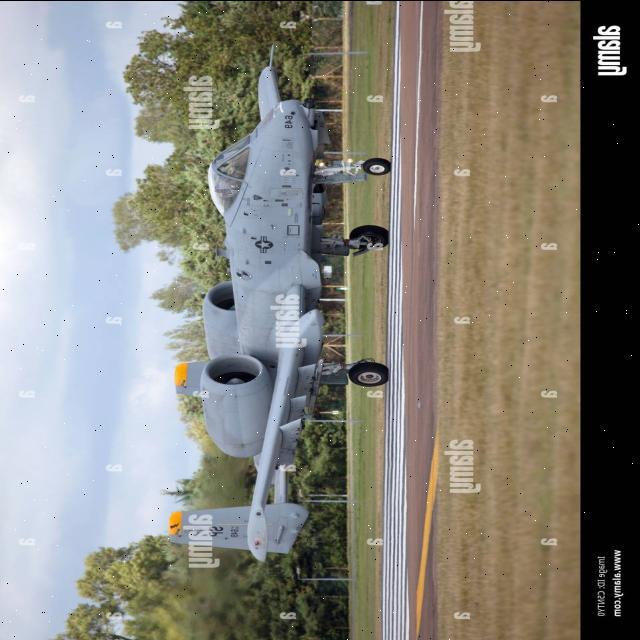A10: (146, 53, 418, 577)
